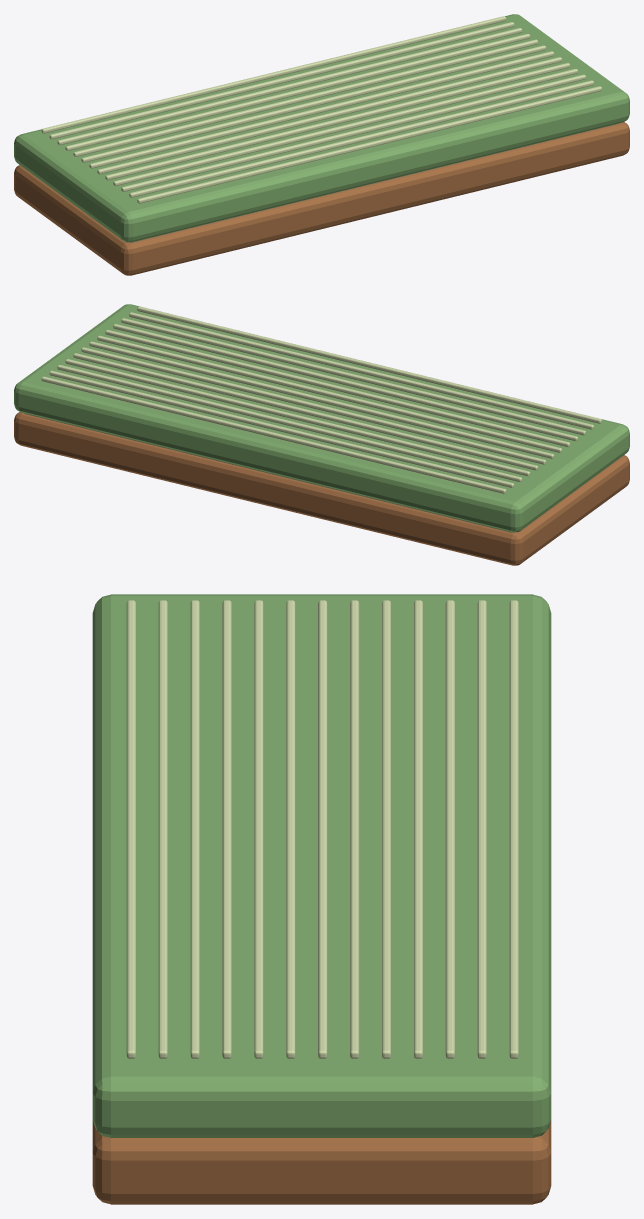
The model's file is BilayerCoupon.fbx.
3 renders of one model, top to bottom at view 1: azimuth 30°, elevation 25°; view 2: azimuth 150°, elevation 25°; view 3: azimuth 270°, elevation 25°, orthographic. The views are drawn at different scales.
Parts seen in each view (by area): view 1: ActiveLayer, PassiveLayer, Fiber_0, Fiber_11, Fiber_1, Fiber_10, Fiber_2, Fiber_3, Fiber_4, Fiber_5, Fiber_6, Fiber_7 (+4 smaller); view 2: ActiveLayer, PassiveLayer, Fiber_3, Fiber_5, Fiber_6, Fiber_7, Fiber_11, Fiber_12, Fiber_4, Fiber_9, Fiber_1, Fiber_10 (+4 smaller); view 3: ActiveLayer, PassiveLayer, Fiber_3, Fiber_0, Fiber_11, Fiber_12, Fiber_2, Fiber_4, Fiber_5, Fiber_6, Fiber_1, Fiber_10 (+3 smaller).
Part boxes in pixels (bbox=[...]): ActiveLayer: bbox=[14, 14, 629, 242]; PassiveLayer: bbox=[14, 122, 629, 275]; Fiber_0: bbox=[137, 86, 601, 203]; Fiber_11: bbox=[49, 22, 514, 139]; Fiber_1: bbox=[129, 80, 593, 197]; Fiber_10: bbox=[57, 28, 522, 145]; Fiber_2: bbox=[121, 74, 585, 191]; Fiber_3: bbox=[113, 68, 578, 186]; Fiber_4: bbox=[105, 63, 570, 180]; Fiber_5: bbox=[97, 57, 562, 174]; Fiber_6: bbox=[89, 51, 554, 168]; Fiber_7: bbox=[81, 45, 546, 162]; ActiveLayer: bbox=[14, 304, 629, 532]; PassiveLayer: bbox=[14, 412, 629, 565]; Fiber_3: bbox=[113, 324, 578, 441]; Fiber_5: bbox=[97, 335, 562, 452]; Fiber_6: bbox=[89, 341, 554, 458]; Fiber_7: bbox=[81, 347, 546, 464]; Fiber_11: bbox=[49, 370, 514, 487]; Fiber_12: bbox=[41, 376, 506, 493]; Fiber_4: bbox=[105, 330, 570, 447]; Fiber_9: bbox=[65, 359, 530, 476]; Fiber_1: bbox=[129, 312, 593, 429]; Fiber_10: bbox=[57, 365, 522, 482]; ActiveLayer: bbox=[92, 594, 551, 1137]; PassiveLayer: bbox=[92, 1120, 551, 1204]; Fiber_3: bbox=[222, 600, 231, 1058]; Fiber_0: bbox=[126, 600, 135, 1058]; Fiber_11: bbox=[477, 600, 486, 1058]; Fiber_12: bbox=[509, 600, 518, 1058]; Fiber_2: bbox=[190, 600, 199, 1058]; Fiber_4: bbox=[254, 600, 263, 1058]; Fiber_5: bbox=[286, 600, 295, 1058]; Fiber_6: bbox=[318, 600, 327, 1058]; Fiber_1: bbox=[158, 600, 167, 1058]; Fiber_10: bbox=[445, 600, 454, 1058].
Size of the model in its own units: 3.2 by 0.4125 by 1.25.
